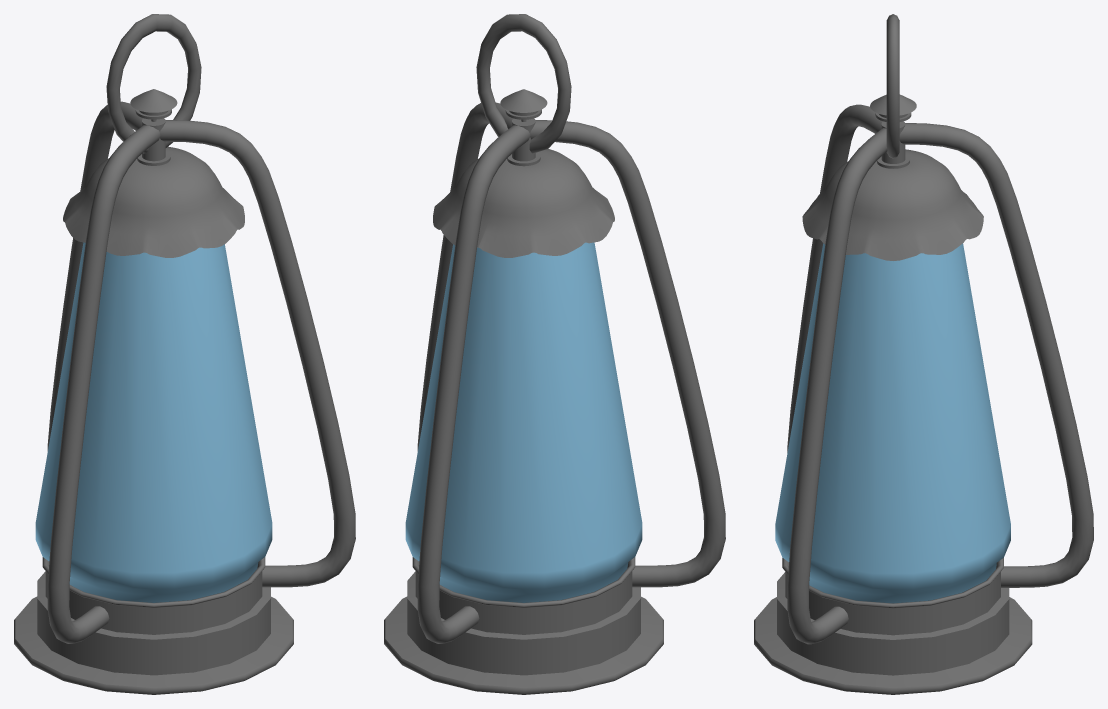
File: Lantern.FBX
3 renders of one model, left to right at view 1: azimuth 30°, elevation 25°; view 2: azimuth 150°, elevation 25°; view 3: azimuth 270°, elevation 25°, orthographic.
Visible parts, largest first — view 1: Vetro, Base, Tappo, Line006, Line005, Torus001, Line007; view 2: Vetro, Base, Tappo, Line005, Line007, Torus001, Line006; view 3: Vetro, Base, Tappo, Line007, Line006, Line005, Torus001.
Boxes of the visible parts, x1=… form: Vetro: x1=35, y1=242, x2=272, y2=602; Base: x1=14, y1=557, x2=293, y2=694; Tappo: x1=63, y1=89, x2=244, y2=257; Line006: x1=160, y1=120, x2=355, y2=587; Line005: x1=47, y1=122, x2=160, y2=643; Torus001: x1=106, y1=14, x2=201, y2=153; Line007: x1=47, y1=101, x2=143, y2=450; Vetro: x1=405, y1=242, x2=642, y2=602; Base: x1=384, y1=557, x2=663, y2=694; Tappo: x1=433, y1=89, x2=614, y2=257; Line005: x1=530, y1=120, x2=725, y2=587; Line007: x1=417, y1=122, x2=530, y2=643; Torus001: x1=476, y1=14, x2=571, y2=153; Line006: x1=417, y1=102, x2=513, y2=450; Vetro: x1=775, y1=243, x2=1010, y2=603; Base: x1=754, y1=558, x2=1032, y2=694; Tappo: x1=802, y1=94, x2=983, y2=260; Line007: x1=899, y1=123, x2=1093, y2=587; Line006: x1=787, y1=128, x2=887, y2=644; Line005: x1=787, y1=104, x2=882, y2=452; Torus001: x1=886, y1=14, x2=899, y2=158.
Size of the model in its own units: 257 by 500 by 249.
